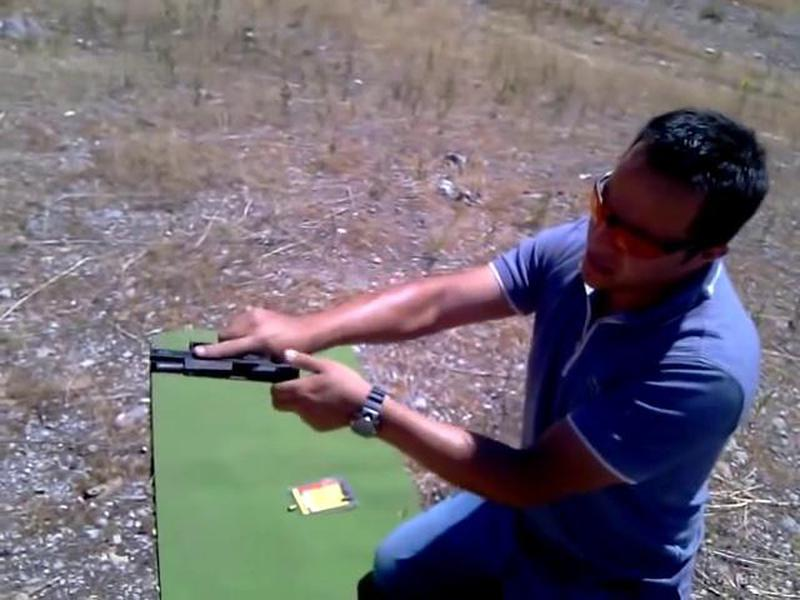Pistola: (135, 320, 310, 389)
